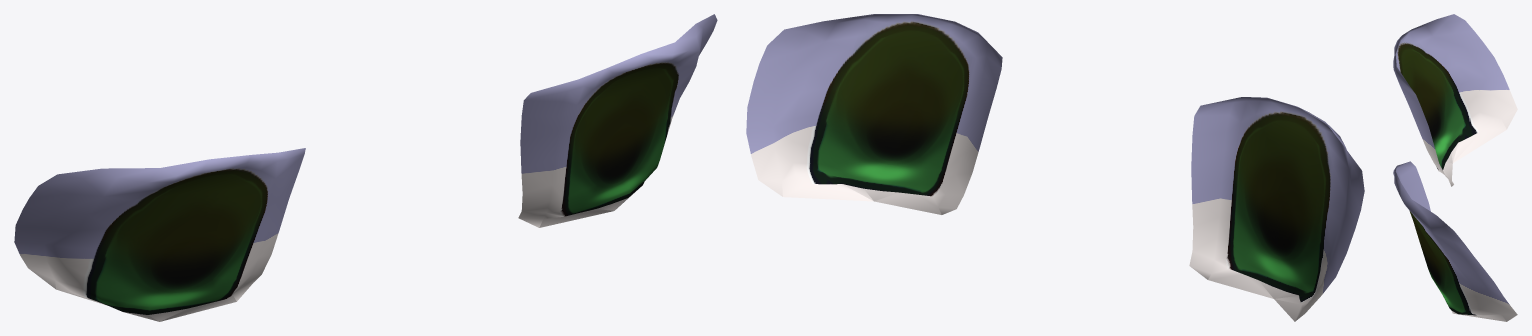
Rendered from Green-Eyes1.fbx.
3 views of the same model, side by side, from view 1: azimuth 30°, elevation 25°; view 2: azimuth 150°, elevation 25°; view 3: azimuth 270°, elevation 25° (orthographic). The views are drawn at different scales.
Visible parts, largest first — view 1: カスタム少女_mesh; view 2: カスタム少女_mesh; view 3: カスタム少女_mesh.
Boxes of the visible parts, <box> form: カスタム少女_mesh: <box>14,14,717,321</box>; カスタム少女_mesh: <box>746,14,1364,321</box>; カスタム少女_mesh: <box>1393,14,1517,321</box>.
Bounding box in the file's own units: 14.62 × 3.84 × 3.41.
1 material, 1 textured.
